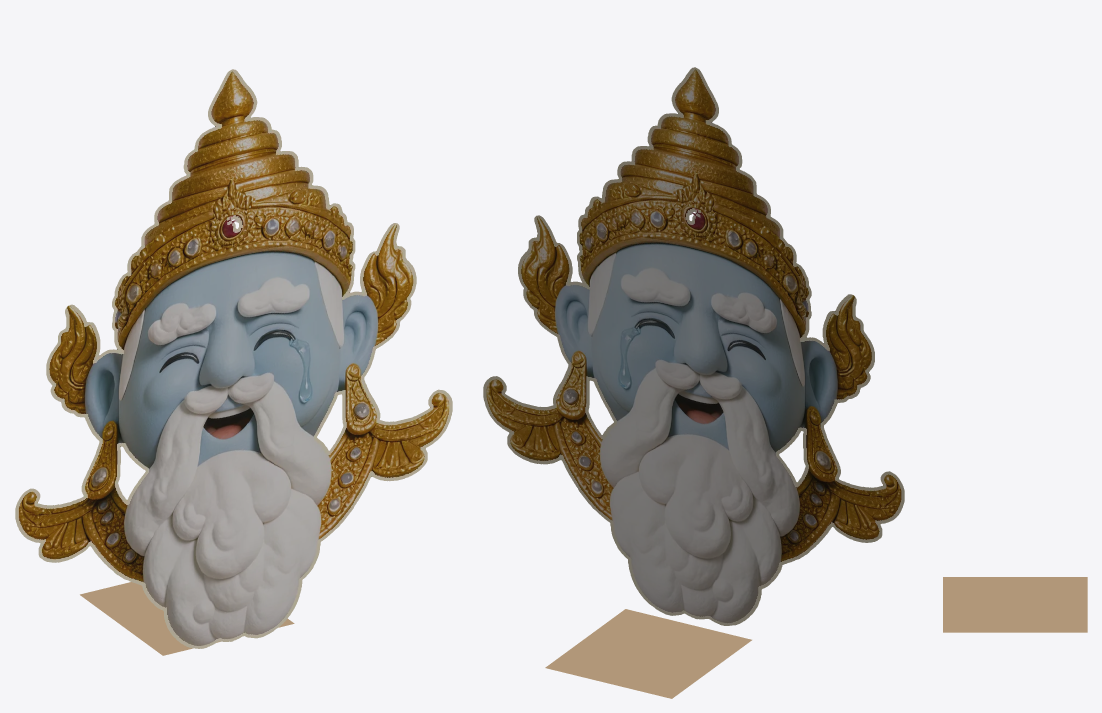
The model's file is toad-standee-face-happy.glb.
The picture shows the model from 3 angles, left to right: view 1: azimuth 30°, elevation 25°; view 2: azimuth 150°, elevation 25°; view 3: azimuth 270°, elevation 25°; orthographic projection. The views are drawn at different scales.
Parts seen in each view (by area): view 1: face-happy; view 2: face-happy; view 3: face-happy.
Boxes of the visible parts, x1,y1,x2,y2 form: face-happy: (15,69,452,655); face-happy: (483,67,904,698); face-happy: (943,577,1087,632).
Bounding box in the file's own units: 0.1 × 0.1257 × 0.035.
1 material, 1 textured.
